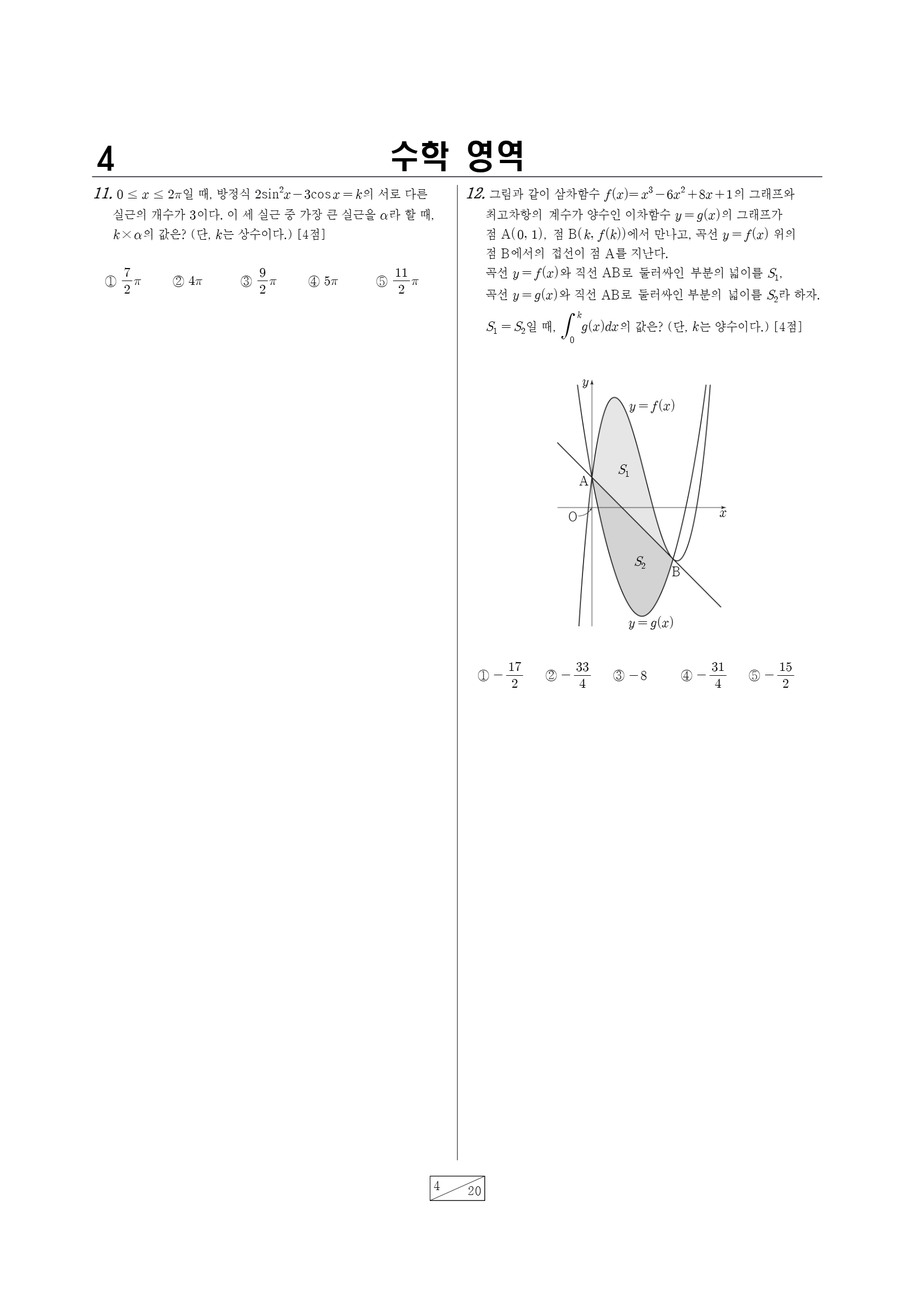opt_1: (105, 273, 117, 288), (477, 669, 489, 681)
opt_2: (172, 274, 184, 287), (545, 668, 557, 681)
opt_3: (240, 275, 252, 287), (613, 669, 624, 681)
opt_4: (680, 668, 693, 682), (308, 275, 320, 288)
opt_5: (748, 668, 760, 682), (375, 274, 387, 288)
